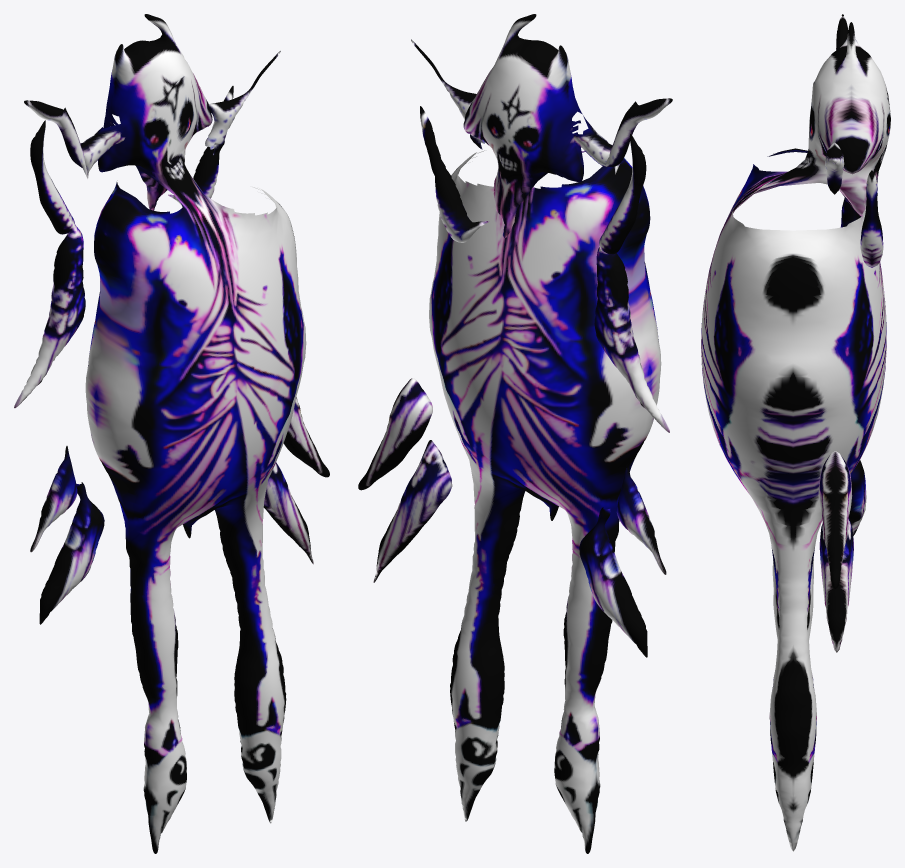
The model's file is angel3.glb.
The picture shows the model from 3 angles, left to right: view 1: azimuth 30°, elevation 25°; view 2: azimuth 150°, elevation 25°; view 3: azimuth 270°, elevation 25°; orthographic projection. The views are drawn at different scales.
Bounding box in the file's own units: 2.78 × 7.06 × 1.54.
1 material, 1 textured.
